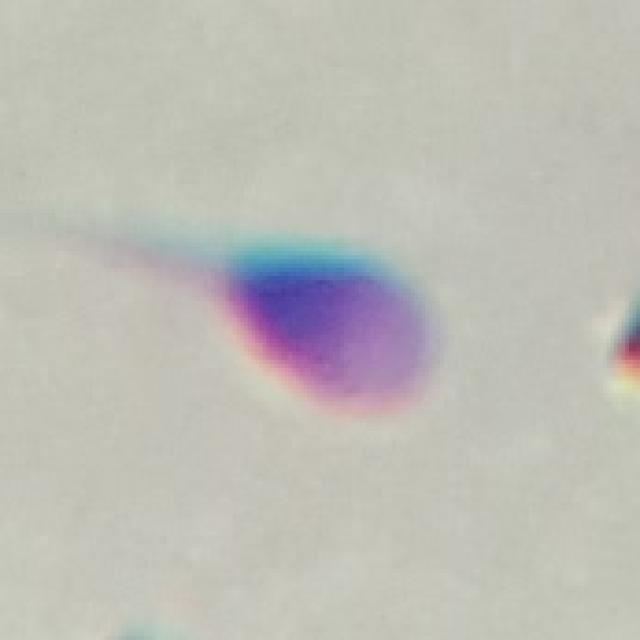normal sperm: (128, 234, 434, 412)
